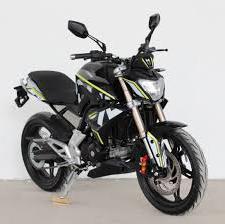motorcycle: (10, 10, 214, 221)
